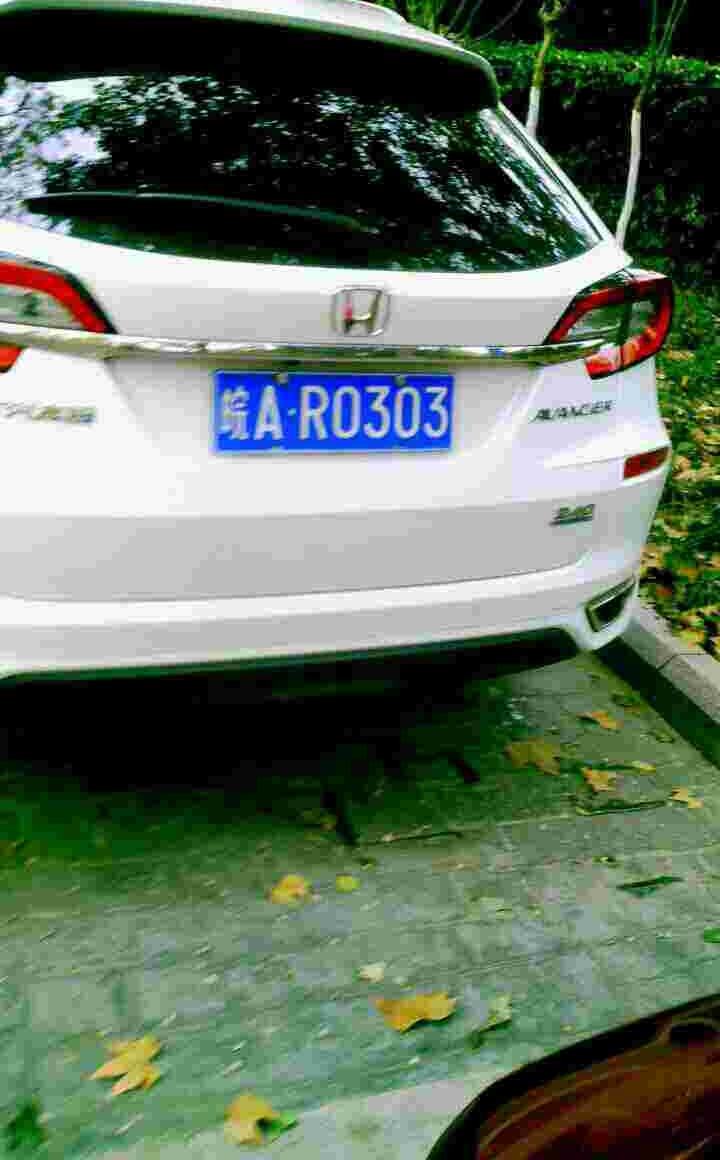license_plate: (203, 370, 455, 463)
